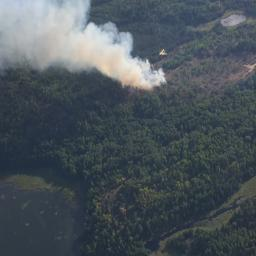Heavy smoke: (1, 0, 166, 90)
